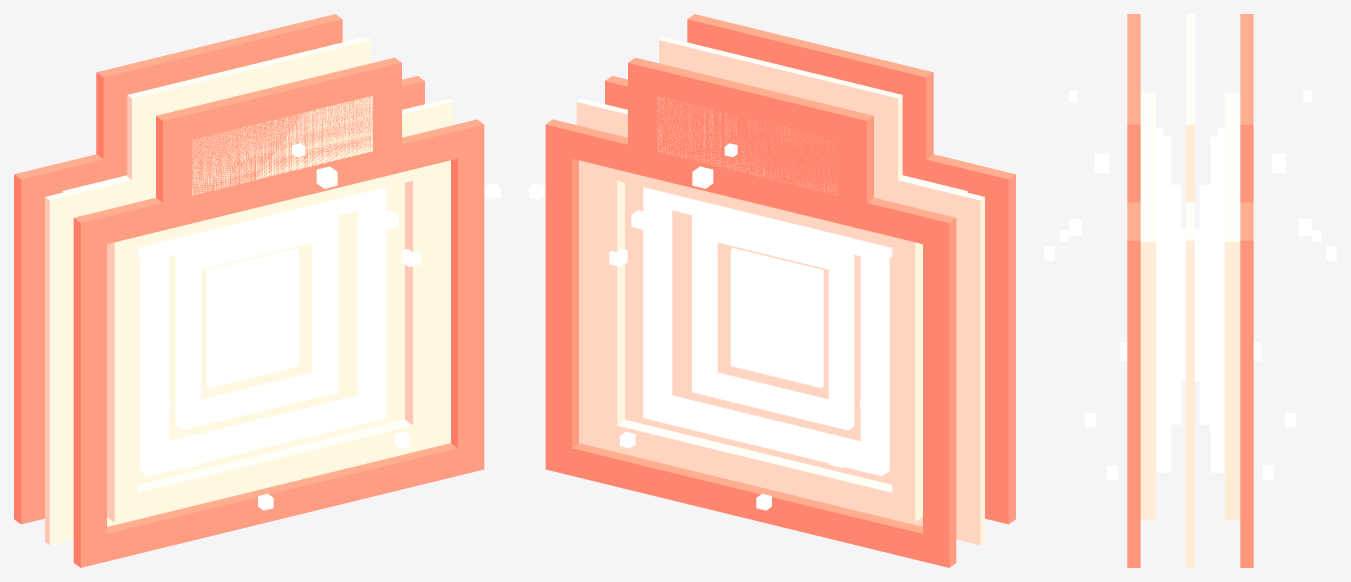
The model's file is tt-portal-coral.glb.
The picture shows the model from 3 angles, left to right: view 1: azimuth 30°, elevation 25°; view 2: azimuth 150°, elevation 25°; view 3: azimuth 270°, elevation 25°; orthographic projection. The views are drawn at different scales.
Parts seen in each view (by area): view 1: box-prop; view 2: box-prop; view 3: box-prop.
Part boxes in pixels (<box>): box-prop: <box>14,14,500,567</box>; box-prop: <box>529,14,1015,567</box>; box-prop: <box>1044,14,1336,567</box>.
Bounding box in the file's own units: 4.9 × 4.95 × 3.24.
